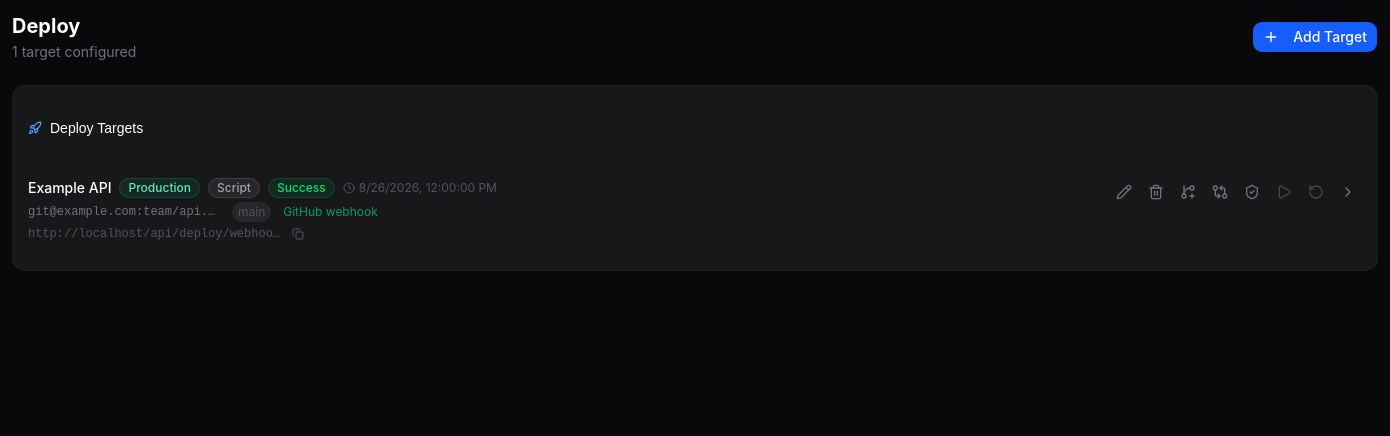
it: Deploy page › reads run logs from the backend response envelope
Click the button titled "Deployment History": (1348, 192) [1334, 178, 1362, 206]
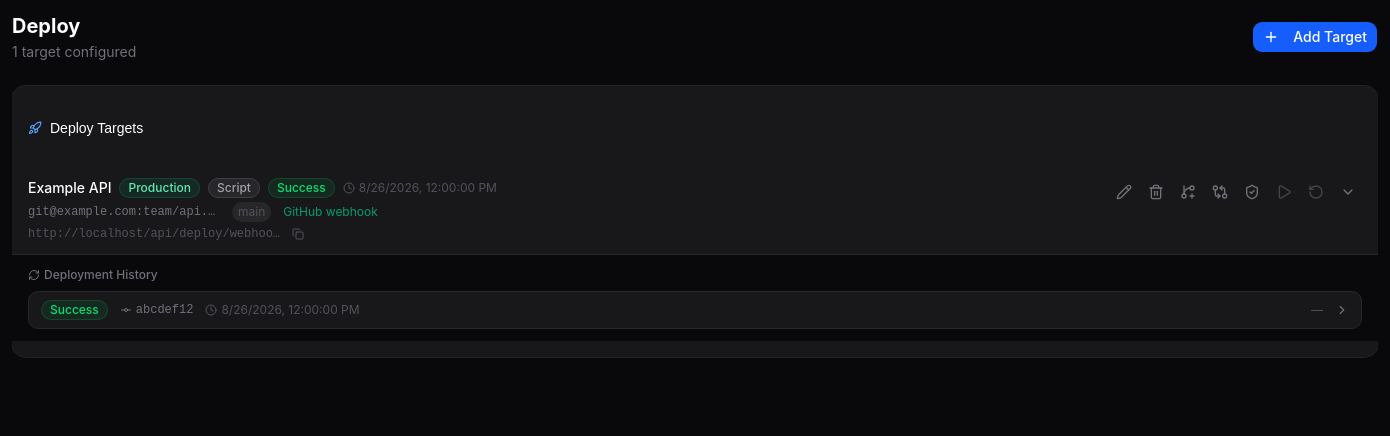
Click the text "abcdef12": (157, 310) [120, 302, 193, 318]
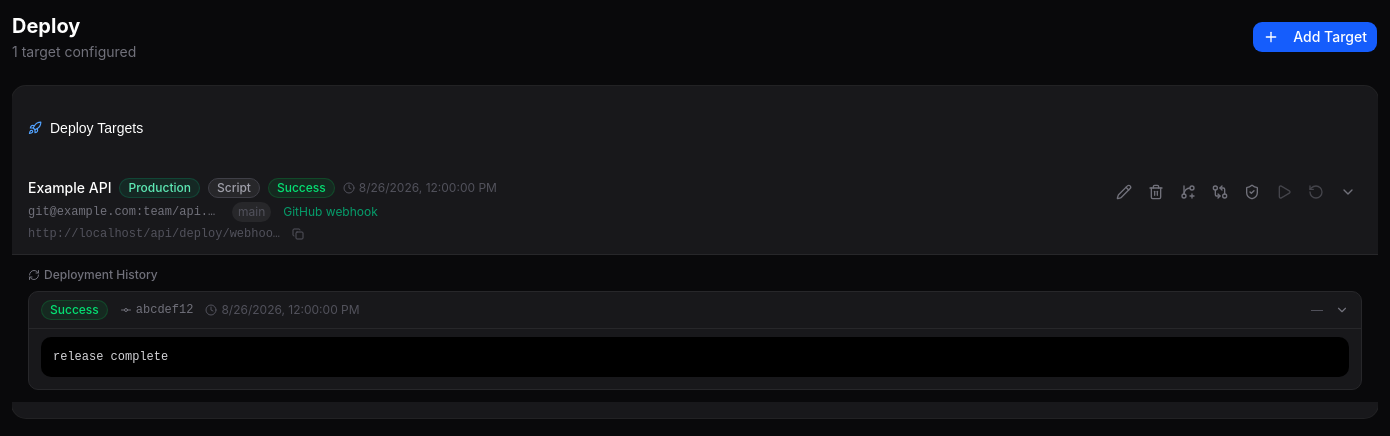
Check: the text "release complete" is shown, box [41, 337, 1349, 377]
